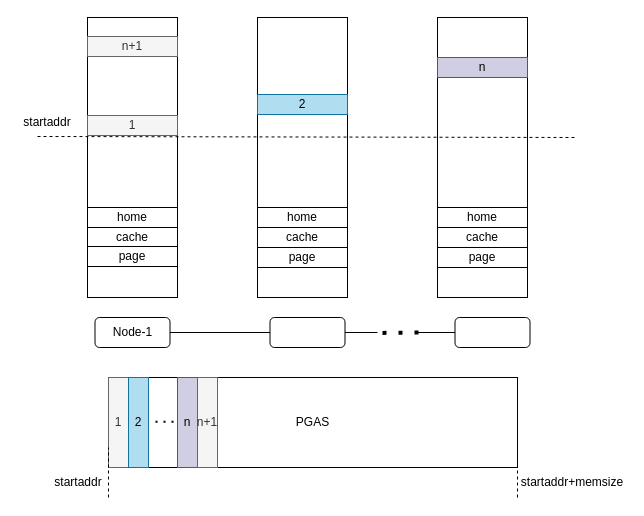
The diagram is 644 pixels wide and 516 high, and some of its shapes have lost their labels. The shapes that lost their labels are listed below. From the top down, each one's centre as x and y in pixels, then its label:
the point at 307,332: Node-2
the point at 492,332: Node-n
